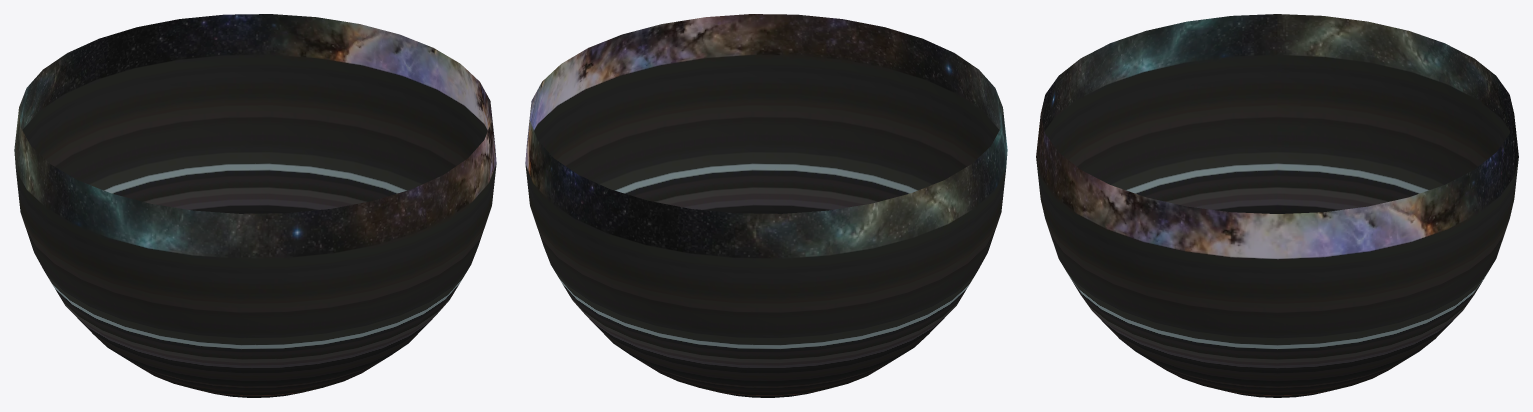
Rendered from alien_space_nebula_1_skybox.glb.
3 renders of one model, left to right at view 1: azimuth 30°, elevation 25°; view 2: azimuth 150°, elevation 25°; view 3: azimuth 270°, elevation 25°, orthographic.
Visible parts, largest first — view 1: Alien Space Nebula 7680x3840 Skybox; view 2: Alien Space Nebula 7680x3840 Skybox; view 3: Alien Space Nebula 7680x3840 Skybox.
Boxes of the visible parts, bbox=[...] form: Alien Space Nebula 7680x3840 Skybox: bbox=[14, 14, 496, 397]; Alien Space Nebula 7680x3840 Skybox: bbox=[525, 14, 1007, 397]; Alien Space Nebula 7680x3840 Skybox: bbox=[1036, 14, 1518, 397].
Size of the model in its own units: 166 by 99.16 by 166.
Materials: 1 (1 with a texture image).
